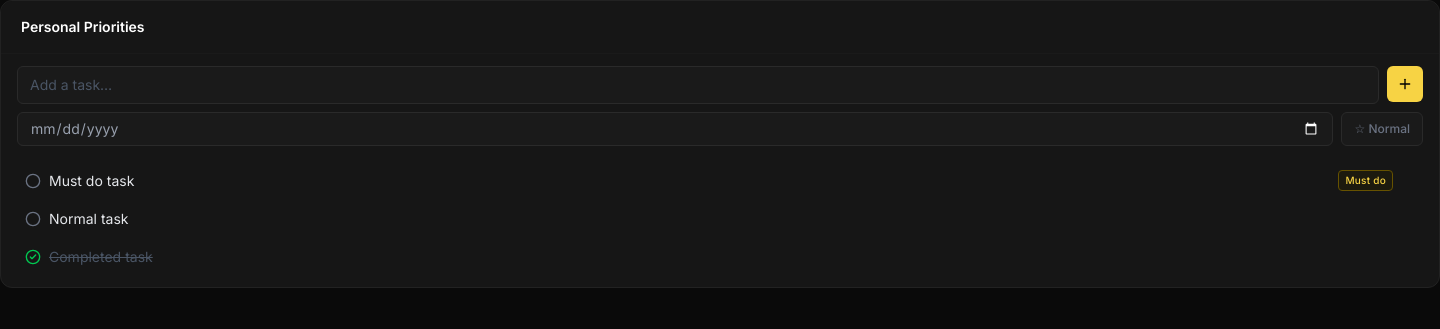
PersonalTasks › validates title before creating
The width and height of the screenshot is (1440, 329).
Click the button named "add task" at [1405, 84], box [1387,66,1423,102]
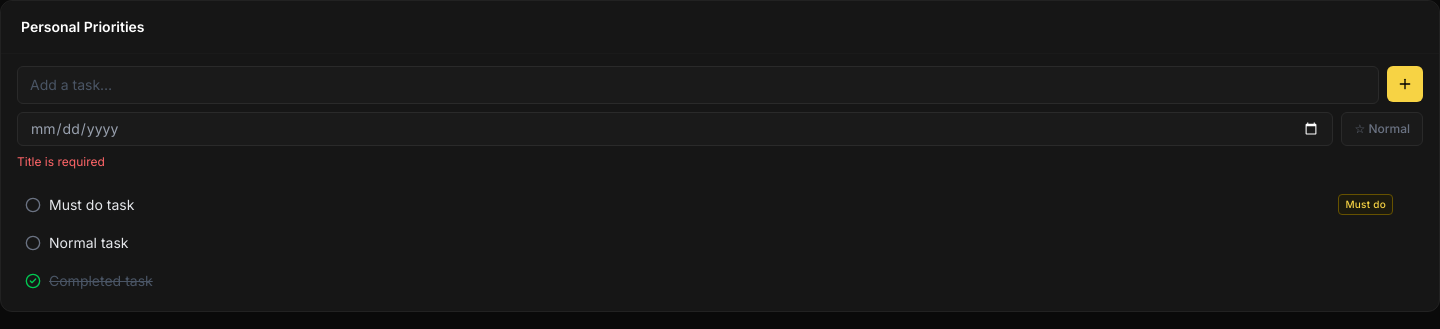
Now the message reads "Title is required", box [17,154,105,169]
